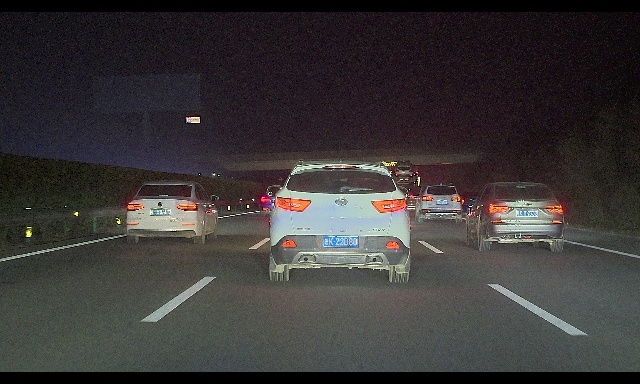car: (265, 157, 411, 283), (465, 180, 565, 252), (126, 179, 219, 245), (414, 182, 462, 223), (259, 185, 298, 218), (394, 185, 428, 210), (461, 195, 485, 213)
truck: (381, 159, 419, 209)
